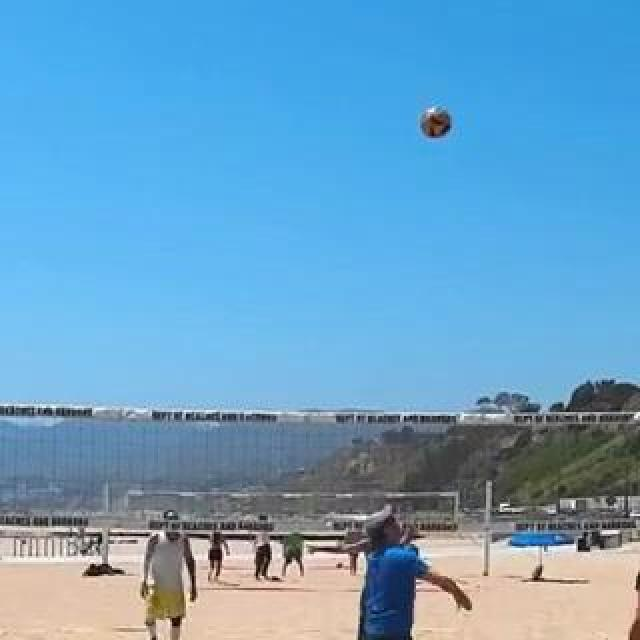volleyball: (421, 110, 451, 140)
